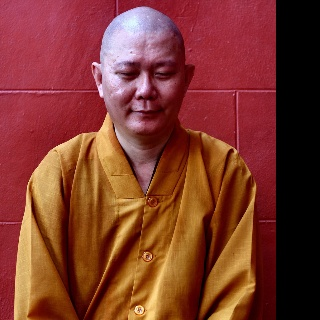without_mask: (103, 31, 185, 133)
